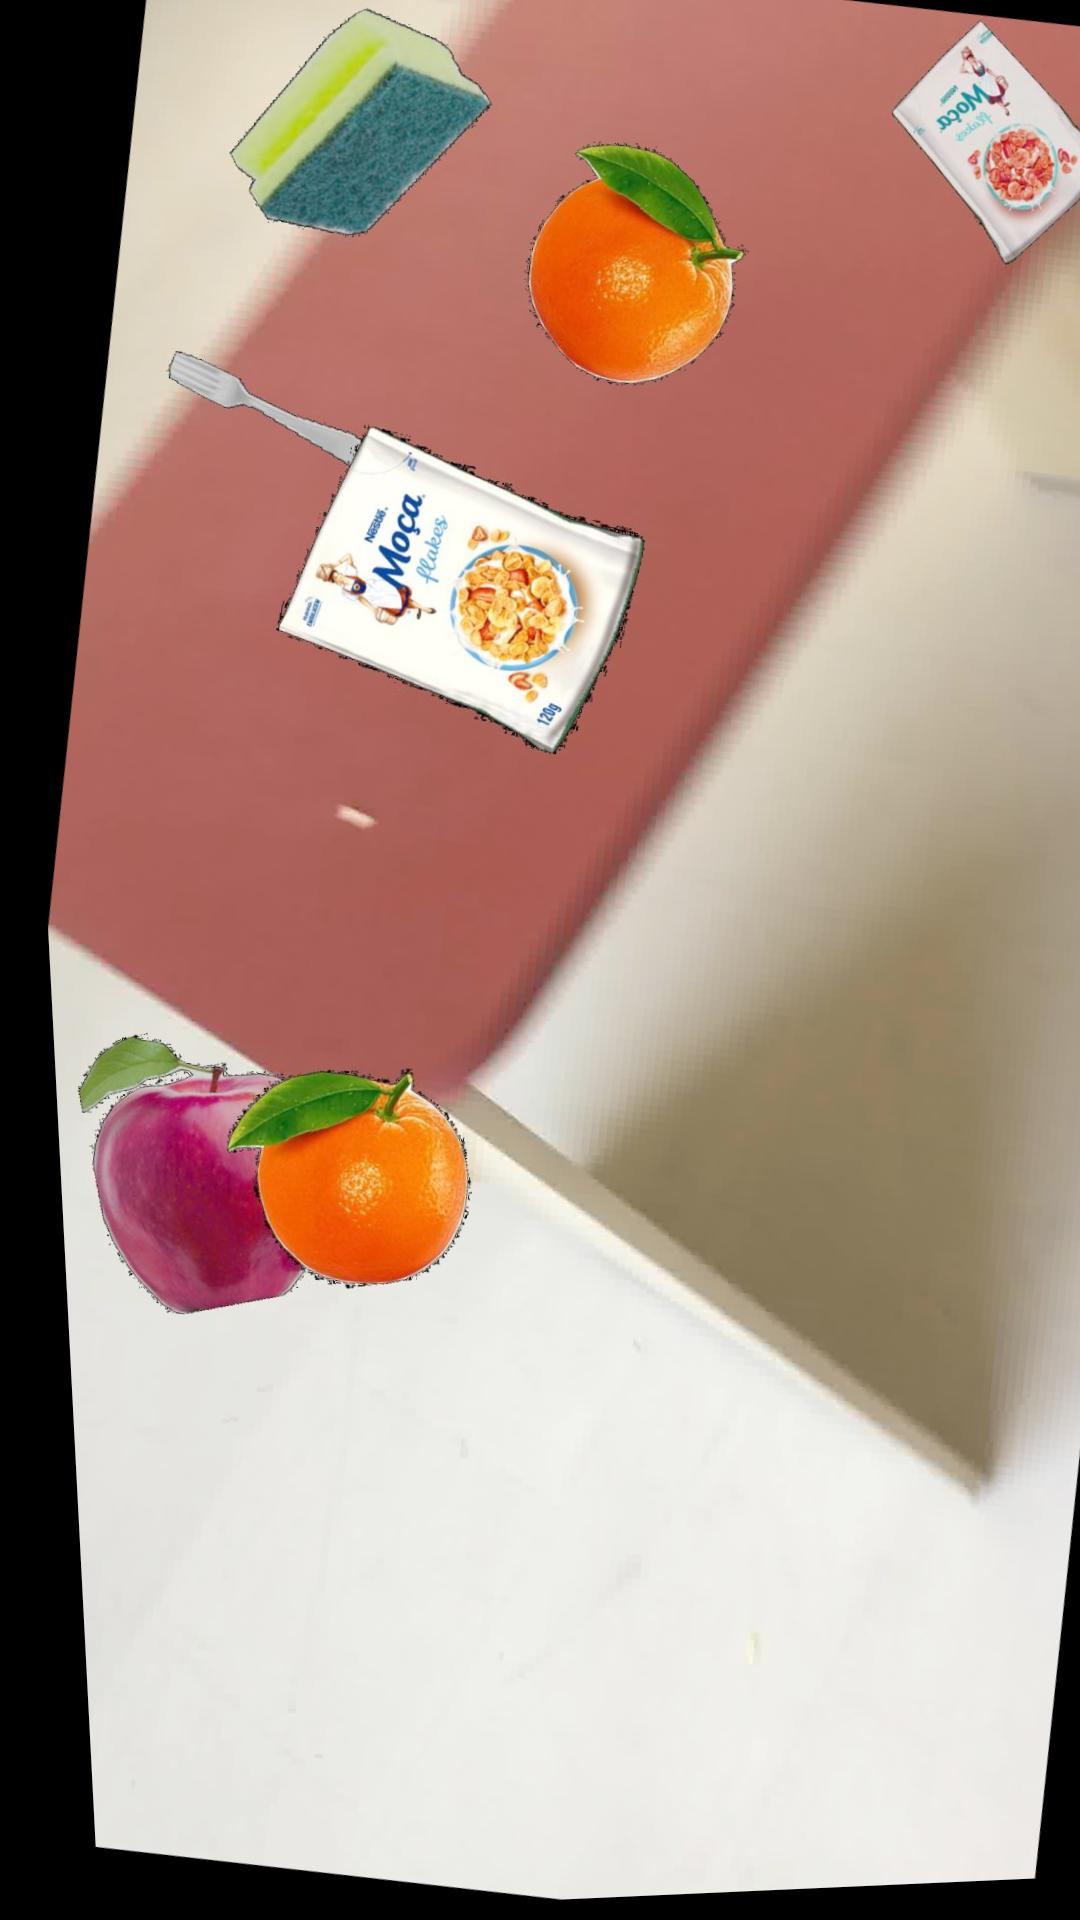apple: (66, 1033, 291, 1312)
corn flakes: (269, 426, 640, 757), (890, 26, 1080, 272)
fork: (165, 351, 357, 467)
orange: (215, 1069, 458, 1288), (525, 146, 742, 388)
sponge: (228, 9, 491, 236)
